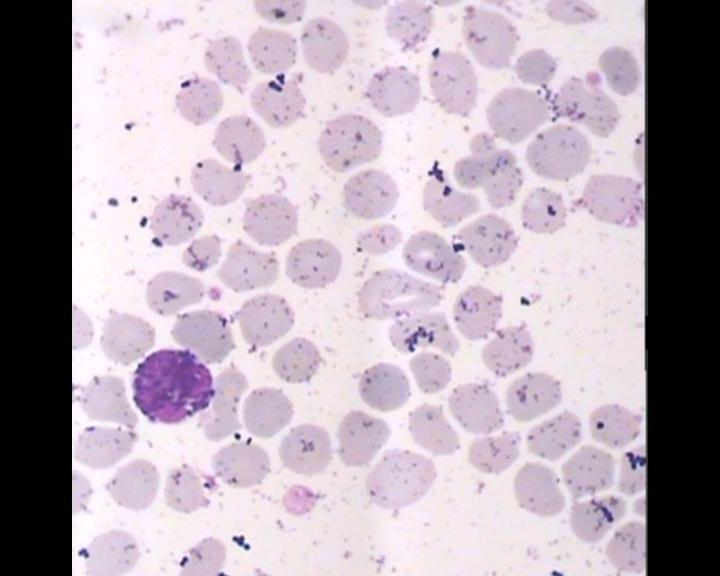baso: (127, 342, 217, 427)
